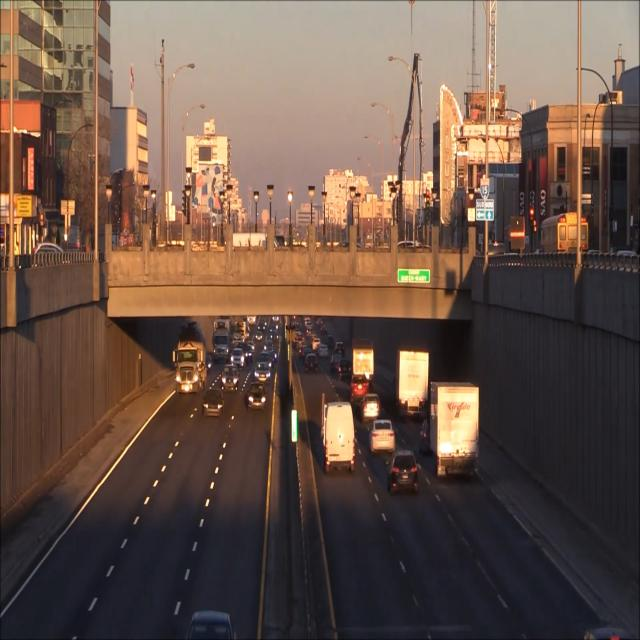Car: (430, 381, 482, 477), (394, 348, 430, 419), (323, 401, 357, 473), (175, 322, 206, 393), (388, 449, 419, 495), (369, 418, 397, 457), (360, 394, 382, 422), (203, 388, 224, 417), (246, 382, 266, 410), (222, 364, 239, 394), (253, 364, 272, 384)
